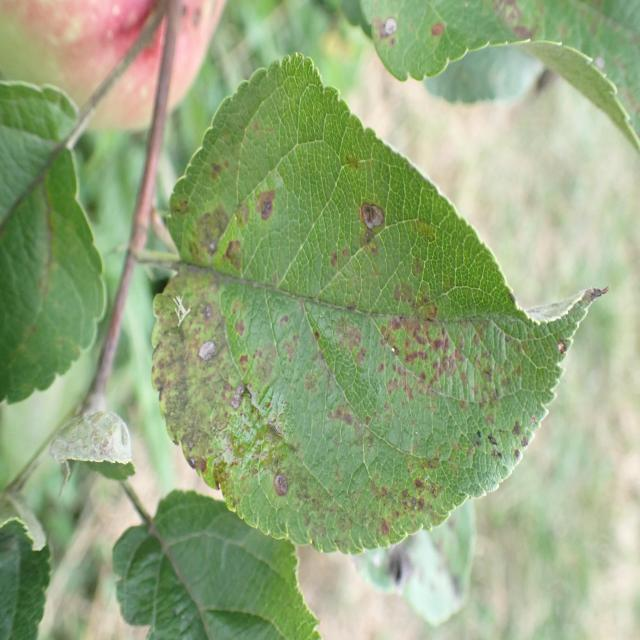frog-eye-leaf-spot: (150, 51, 610, 554), (346, 0, 640, 137)
